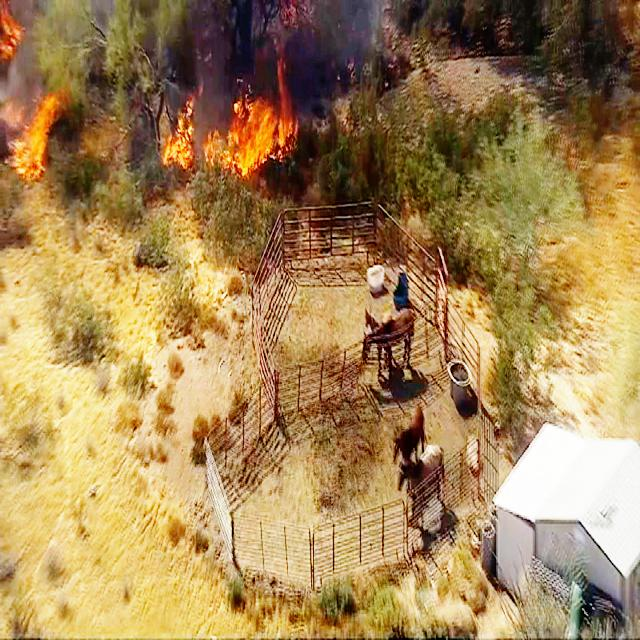api: (200, 54, 306, 189), (9, 86, 64, 193), (160, 91, 199, 171), (1, 12, 31, 59)
